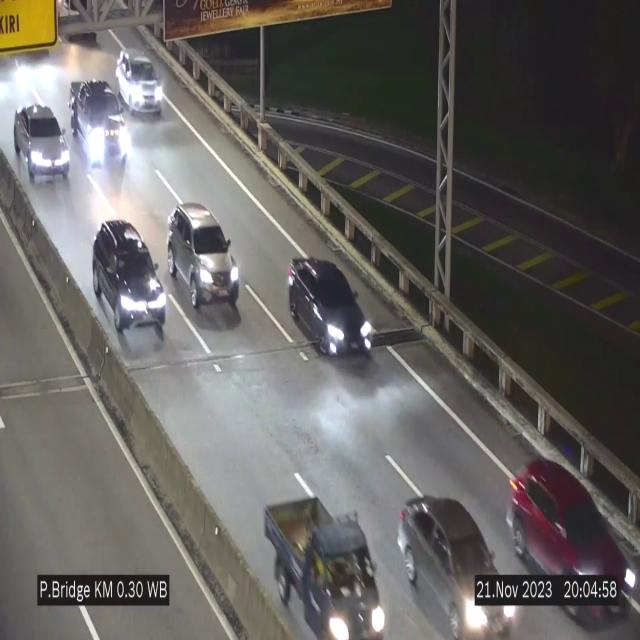Car: (505, 434, 636, 632), (391, 479, 515, 640), (92, 219, 166, 355), (167, 204, 240, 316), (288, 258, 372, 354), (66, 82, 130, 182), (14, 104, 70, 186), (116, 50, 164, 114)
Truck: (262, 491, 389, 640)
